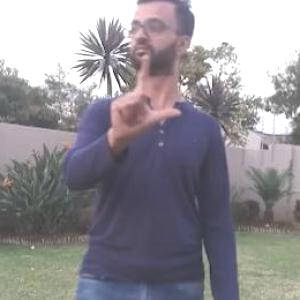land_hand: (102, 52, 186, 148)
